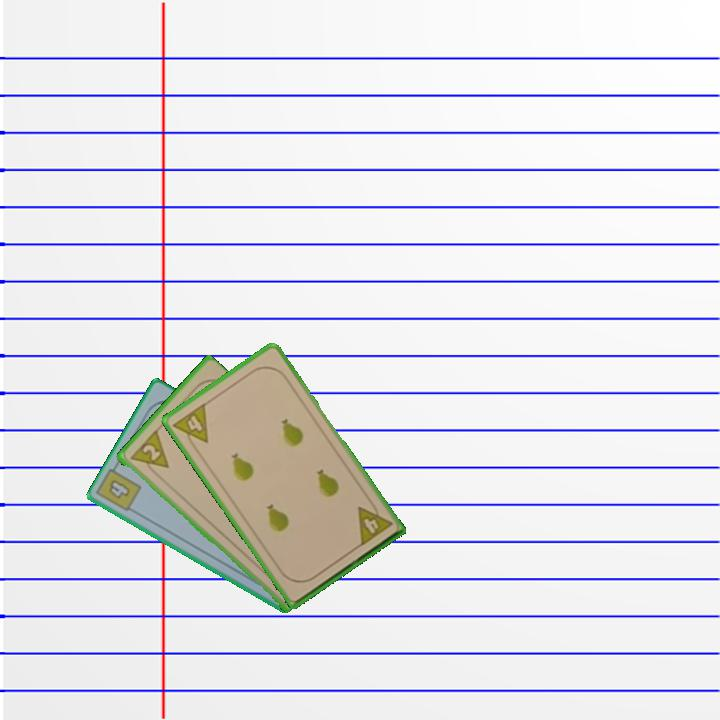2p: (126, 427, 171, 479)
4b: (104, 476, 133, 502)
4p: (169, 399, 211, 453), (354, 497, 395, 549)
